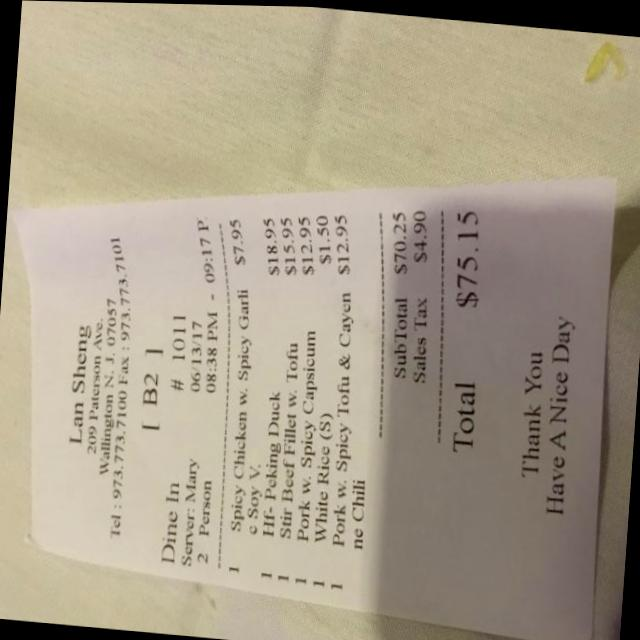Paper: (0, 117, 623, 640)
